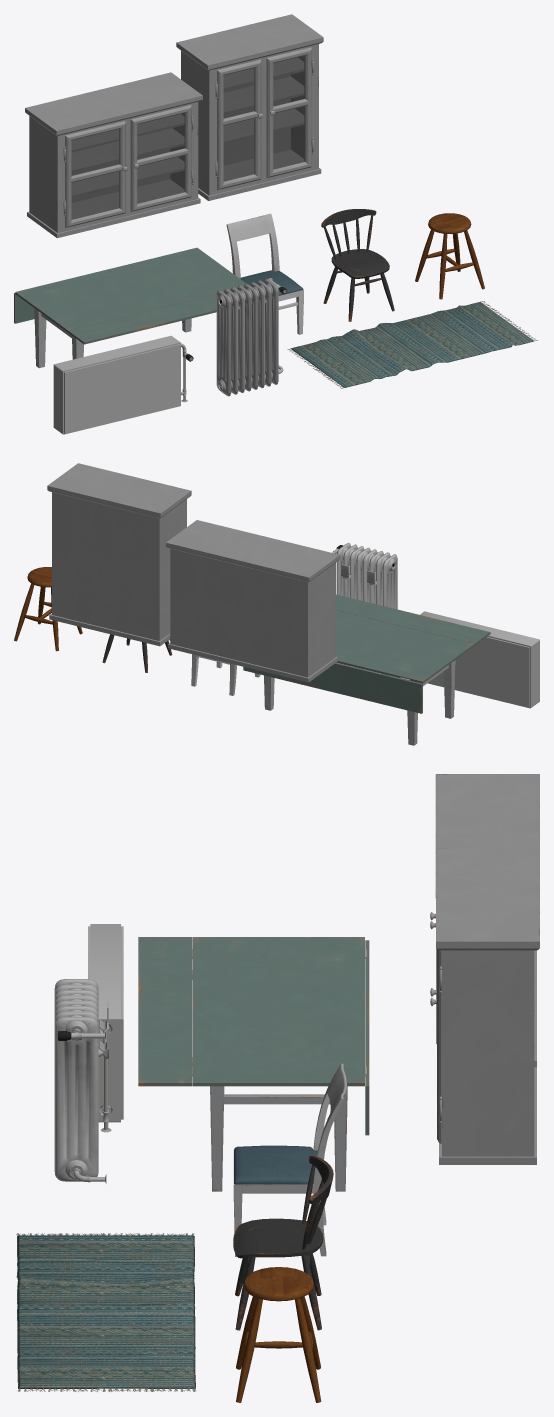
The model's file is home.gltf.
3 renders of one model, top to bottom at view 1: azimuth 30°, elevation 25°; view 2: azimuth 150°, elevation 25°; view 3: azimuth 270°, elevation 25°, orthographic. The views are drawn at different scales.
Visible parts, largest first — view 1: Cupboard_Kitchen_A_8, Cupboard_Kitchen_B_7, Table_Kitchen_A_2, Carpet_A_6, Radiator_B_0, Radiator_A_1, Chair_Kitchen_B_3, Chair_Kitchen_A_4, Stool_A_5; view 2: Cupboard_Kitchen_A_8, Cupboard_Kitchen_B_7, Table_Kitchen_A_2, Radiator_B_0, Radiator_A_1, Stool_A_5, Chair_Kitchen_A_4, Chair_Kitchen_B_3; view 3: Table_Kitchen_A_2, Cupboard_Kitchen_B_7, Carpet_A_6, Radiator_A_1, Cupboard_Kitchen_A_8, Chair_Kitchen_A_4, Chair_Kitchen_B_3, Radiator_B_0, Stool_A_5.
Part boxes in pixels (x1,y1,x2,y2): Cupboard_Kitchen_A_8: [25, 72, 202, 238]; Cupboard_Kitchen_B_7: [176, 14, 323, 200]; Table_Kitchen_A_2: [14, 247, 245, 368]; Carpet_A_6: [287, 301, 537, 388]; Radiator_B_0: [53, 335, 193, 434]; Radiator_A_1: [216, 278, 286, 396]; Chair_Kitchen_B_3: [321, 209, 394, 321]; Chair_Kitchen_A_4: [226, 213, 303, 334]; Stool_A_5: [415, 213, 484, 299]; Cupboard_Kitchen_A_8: [166, 520, 340, 682]; Cupboard_Kitchen_B_7: [47, 463, 191, 646]; Table_Kitchen_A_2: [243, 594, 490, 745]; Radiator_B_0: [420, 611, 539, 708]; Radiator_A_1: [332, 543, 397, 609]; Stool_A_5: [14, 567, 82, 651]; Chair_Kitchen_A_4: [191, 654, 260, 695]; Chair_Kitchen_B_3: [102, 634, 172, 672]; Table_Kitchen_A_2: [138, 937, 369, 1191]; Cupboard_Kitchen_B_7: [430, 848, 539, 1164]; Carpet_A_6: [16, 1233, 196, 1392]; Radiator_A_1: [54, 979, 108, 1183]; Cupboard_Kitchen_A_8: [430, 774, 539, 1067]; Chair_Kitchen_A_4: [233, 1063, 346, 1256]; Chair_Kitchen_B_3: [233, 1156, 333, 1330]; Radiator_B_0: [88, 924, 123, 1132]; Stool_A_5: [236, 1267, 321, 1402].
Size of the model in its own units: 5.14 by 2.44 by 3.05.
7 materials, 6 textured.
